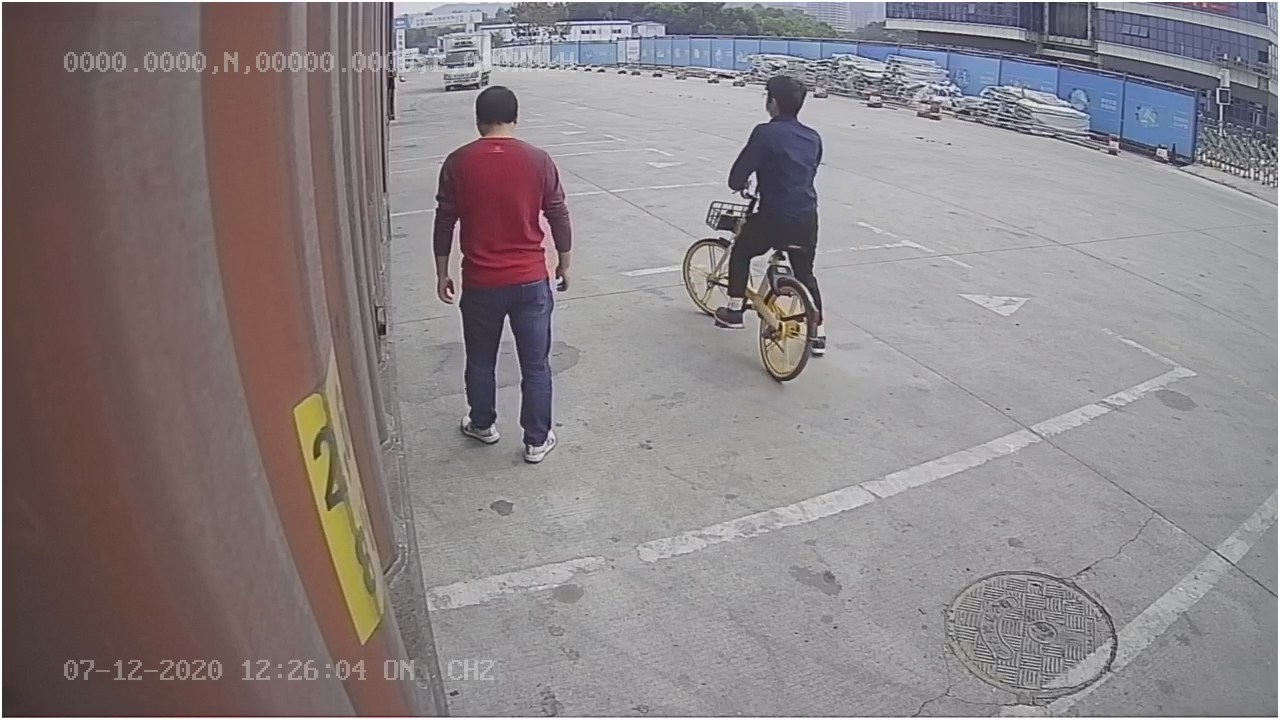person: (427, 82, 575, 469)
